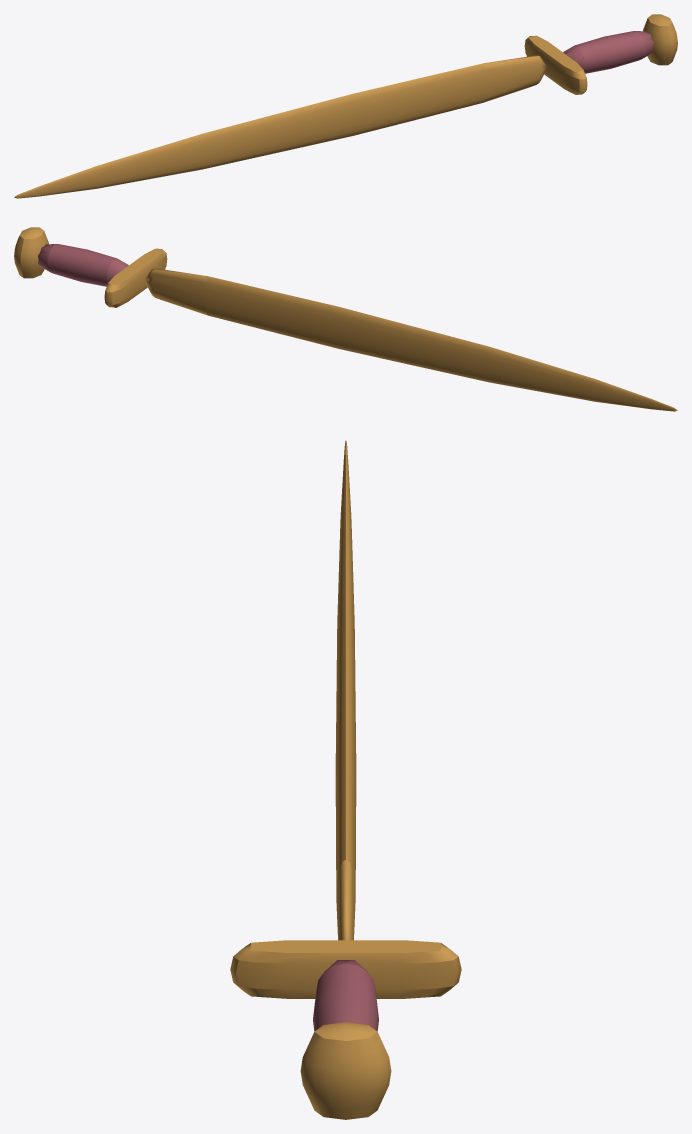
Rendered from weapon_sword.glb.
3 views of the same model, one above another, from view 1: azimuth 30°, elevation 25°; view 2: azimuth 150°, elevation 25°; view 3: azimuth 270°, elevation 25° (orthographic). The views are drawn at different scales.
Parts seen in each view (by area): view 1: weapon_sword; view 2: weapon_sword; view 3: weapon_sword.
Boxes of the visible parts, x1,y1,x2,y2 form: weapon_sword: (14,14,677,198); weapon_sword: (14,227,677,411); weapon_sword: (230,440,461,1119).
Size of the model in its own units: 0.9643 by 0.0633 by 0.1464.
